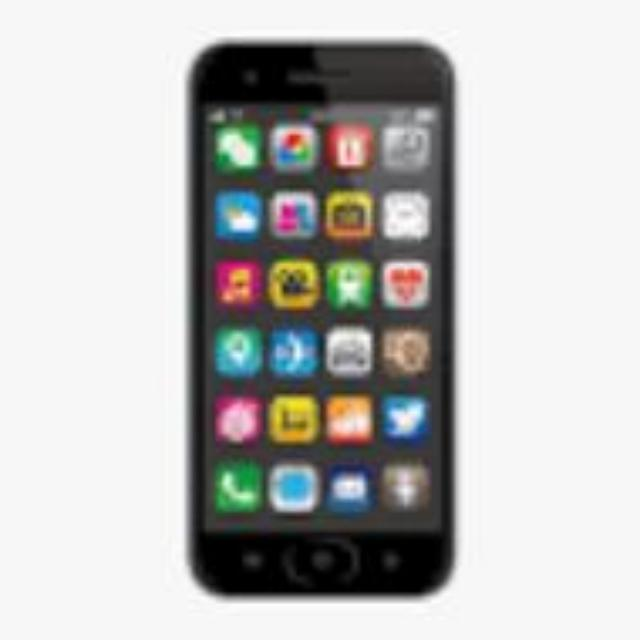Phone: (182, 38, 458, 596)
